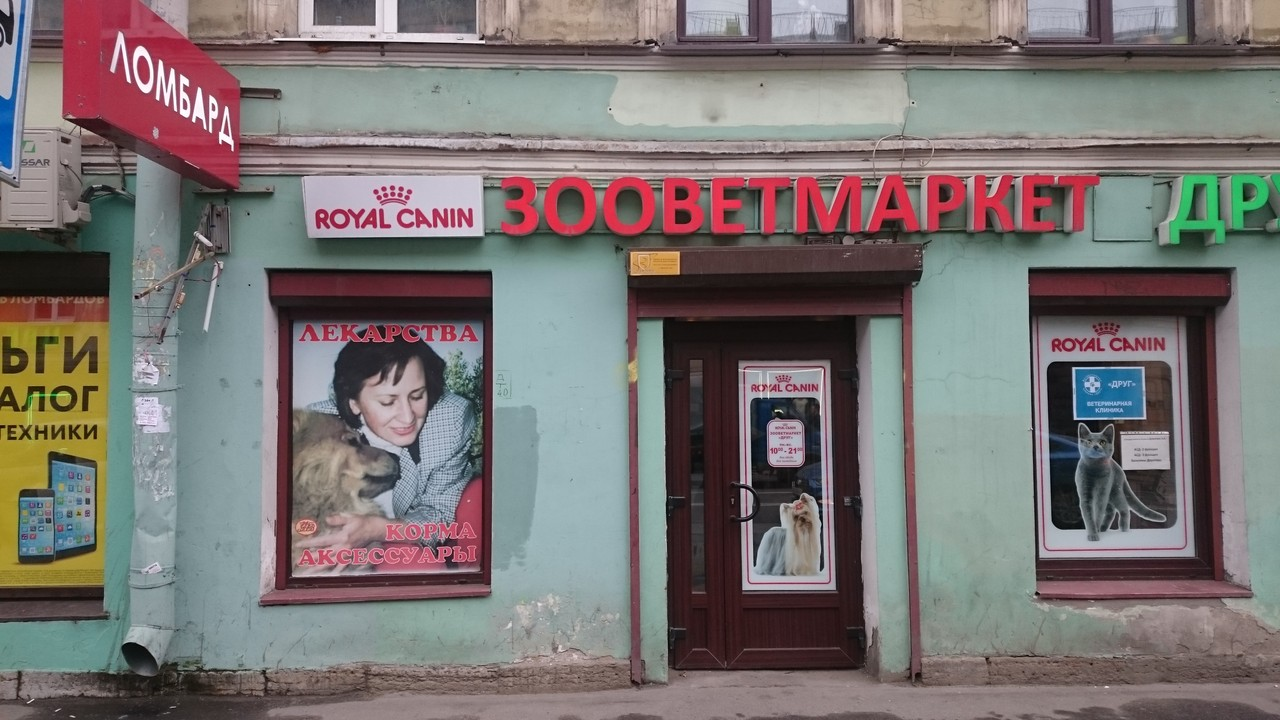cantilever: (64, 1, 270, 201)
door: (718, 342, 864, 678)
signboard: (297, 172, 1097, 235)
window: (286, 306, 488, 587), (1032, 301, 1216, 584)
